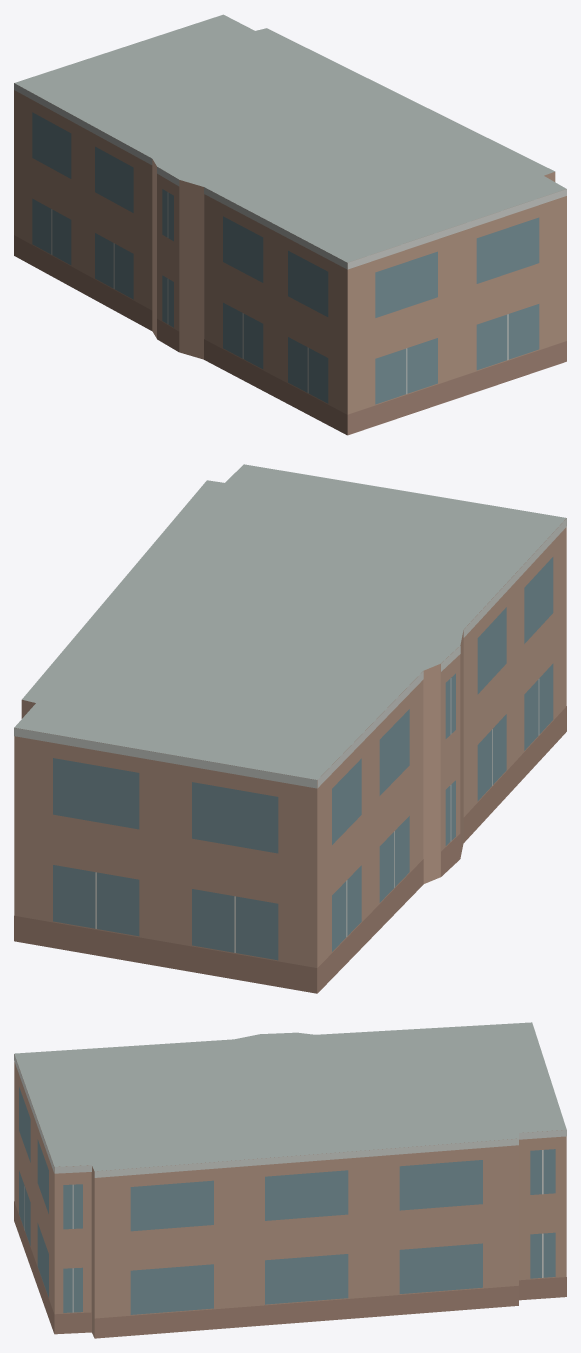
Rendered from survey-upis-32596598.glb.
3 views of the same model, one above another, from view 1: azimuth 30°, elevation 25°; view 2: azimuth 150°, elevation 25°; view 3: azimuth 270°, elevation 25° (orthographic). The views are drawn at different scales.
Visible parts, largest first — view 1: survey-upis-32596598.tmp; view 2: survey-upis-32596598.tmp; view 3: survey-upis-32596598.tmp.
Part boxes in pixels (box(x1,y1,x2,y2)): survey-upis-32596598.tmp: box(14, 14, 566, 435); survey-upis-32596598.tmp: box(14, 464, 566, 993); survey-upis-32596598.tmp: box(14, 1022, 566, 1338).
Size of the model in its own units: 11.67 by 6.1 by 18.29.
